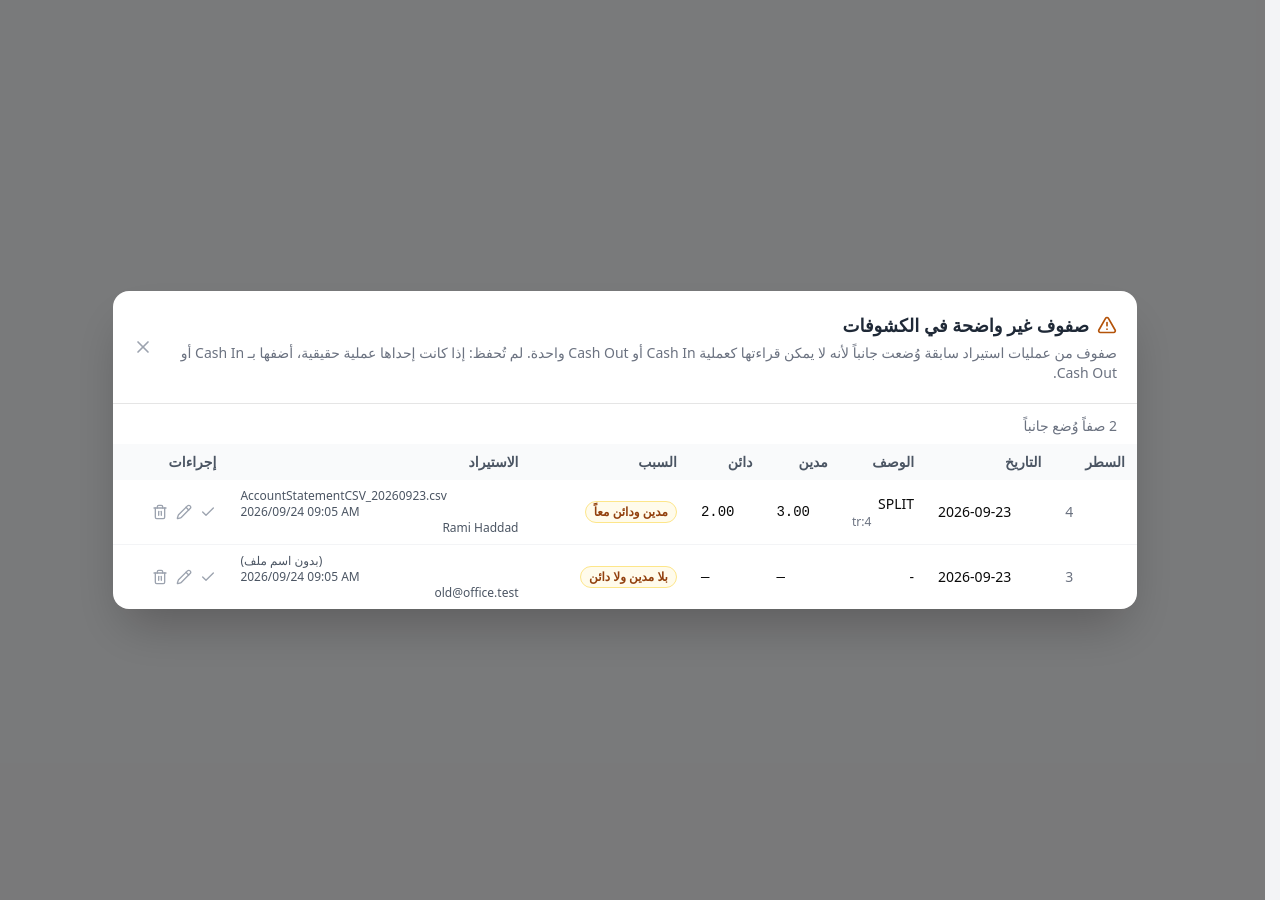
Scenario: row actions: accept as is, discard, or correct and add (user's request, 2026-09-29) › correct and add: opens with the row's own debit and credit — both filled (its 'both' reason) blocks saving
The image size is (1280, 900).
Expected: the number of rows with test id "ambiguous-row" is 2, [113,480,1137,544]; [113,544,1137,609]
Click the button with test id "ambiguous-convert" in the row of "SPLIT" at (184, 512), box [176,504,192,520]
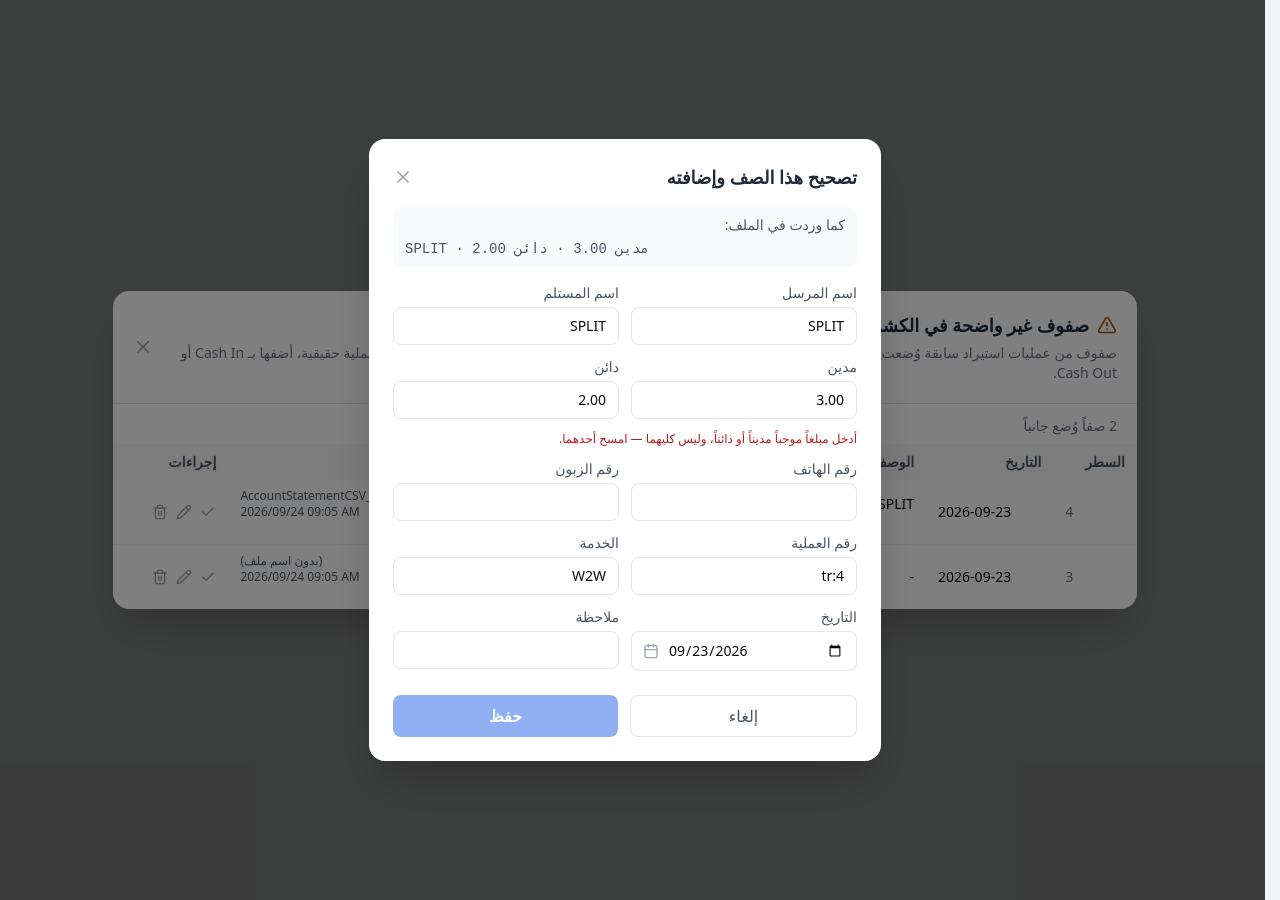
Expected: the number field with test id "convert-debit" holds "3", [631,381,857,419]
Expected: the number field with test id "convert-credit" holds "2", [393,381,619,419]
Expected: the date field with test id "convert-date" holds "2026-09-23", [631,631,857,671]
